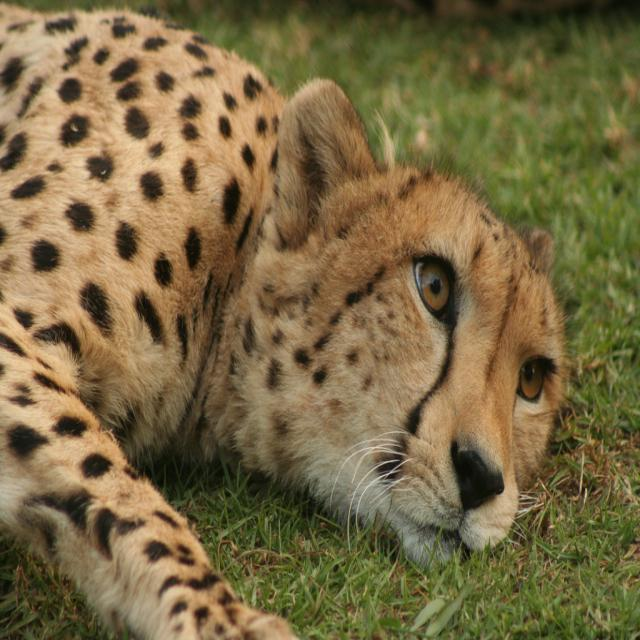Cheetah: (0, 2, 575, 639)
